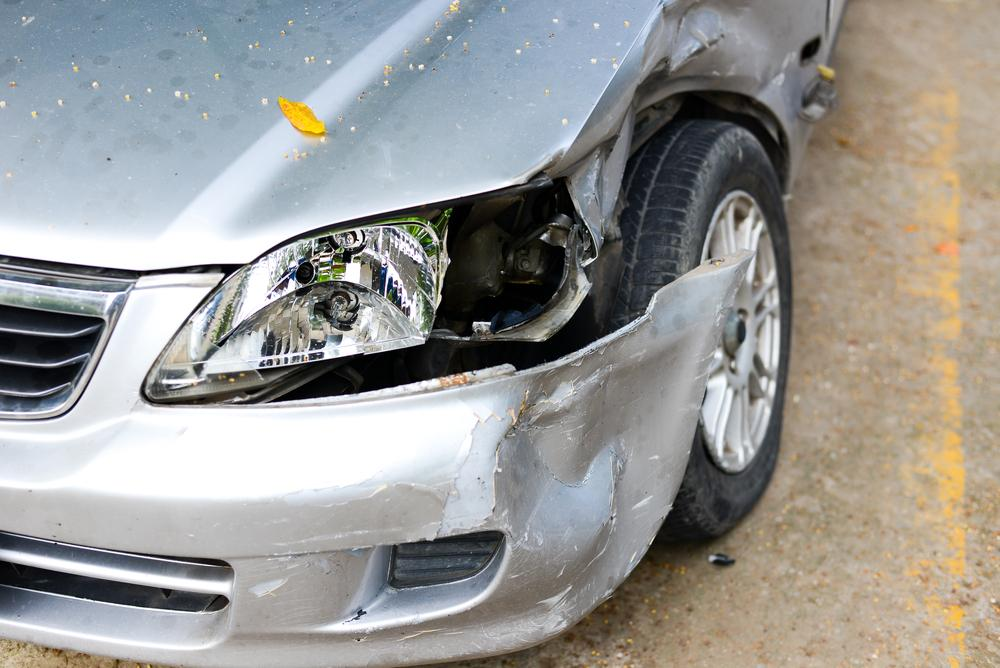dent: (525, 0, 778, 252), (491, 326, 700, 577)
lamp broken: (150, 181, 595, 403)
scratch: (283, 403, 514, 540), (469, 530, 623, 642)
